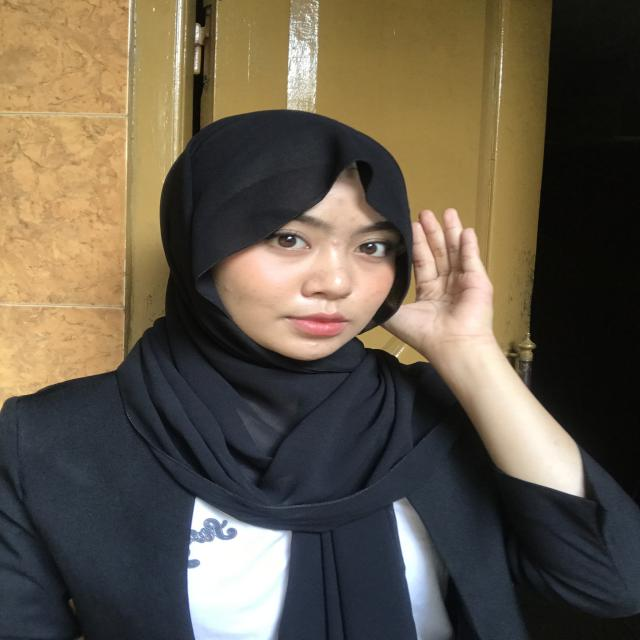mendengar: (378, 205, 499, 361)
